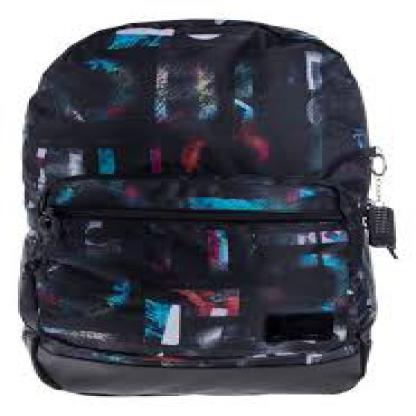morral: (12, 2, 392, 396)
